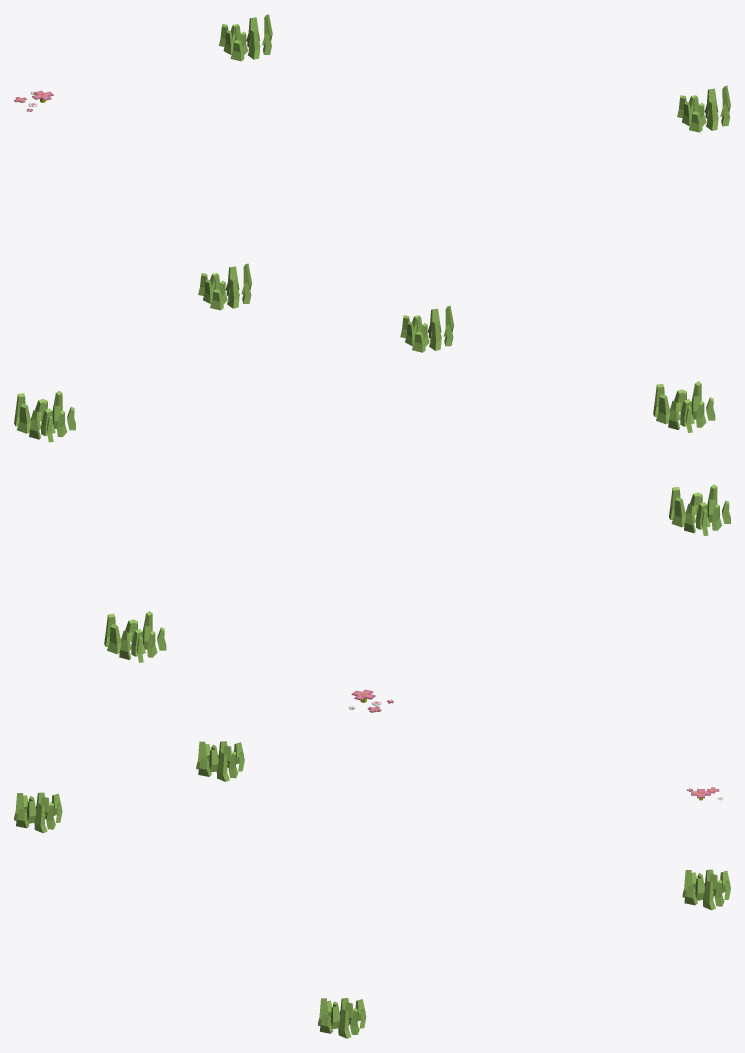
Rendered from flower_grass 21.fbx.
3 renders of one model, top to bottom at view 1: azimuth 30°, elevation 25°; view 2: azimuth 150°, elevation 25°; view 3: azimuth 270°, elevation 25°, orthographic. The views are drawn at different scales.
Visible parts, largest first — view 1: Grass_2; view 2: Grass_2; view 3: Grass_2.
Part boxes in pixels (x1=…): Grass_2: x1=14, y1=14, x2=730, y2=352; Grass_2: x1=14, y1=381, x2=730, y2=712; Grass_2: x1=14, y1=741, x2=730, y2=1038.
Bounding box in the file's own units: 6546 × 294 × 7079.
Materials: 2 (2 with a texture image).
